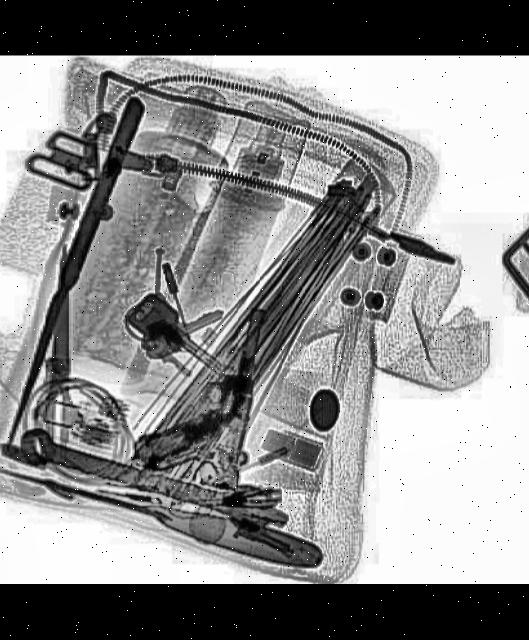Gun: (126, 299, 266, 492)
Knife: (0, 97, 144, 455), (0, 451, 322, 580), (30, 244, 82, 448)
Wrench: (10, 424, 273, 542)
